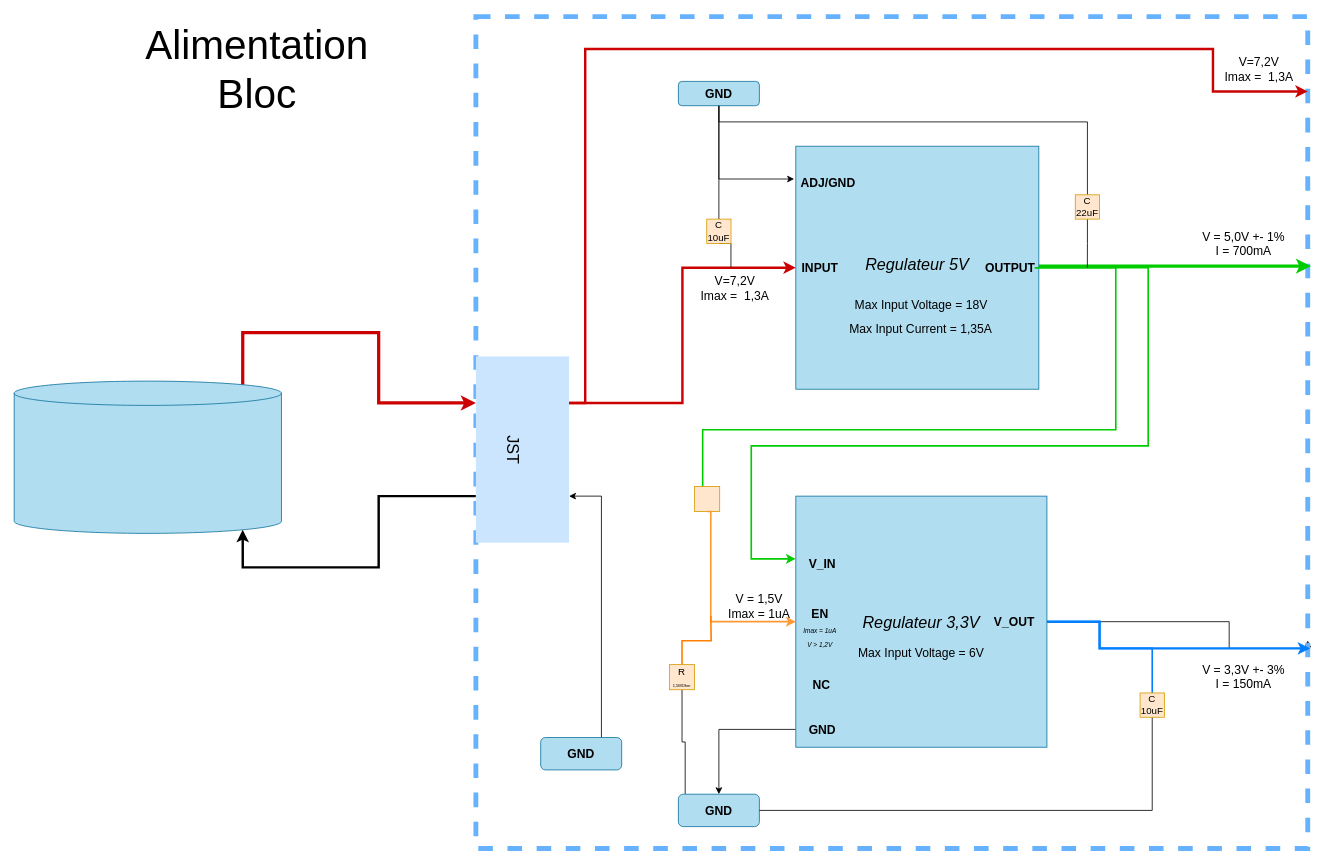
Some shapes in this 1333 by 864 pixel diagram are drawn without their labels. Each missing label, with the centre of its shape:
"Batterie 7,2V 1.3Ah 1C max discharge Current" belongs at point (147, 456).
"R 3MOhm" belongs at point (707, 499).
